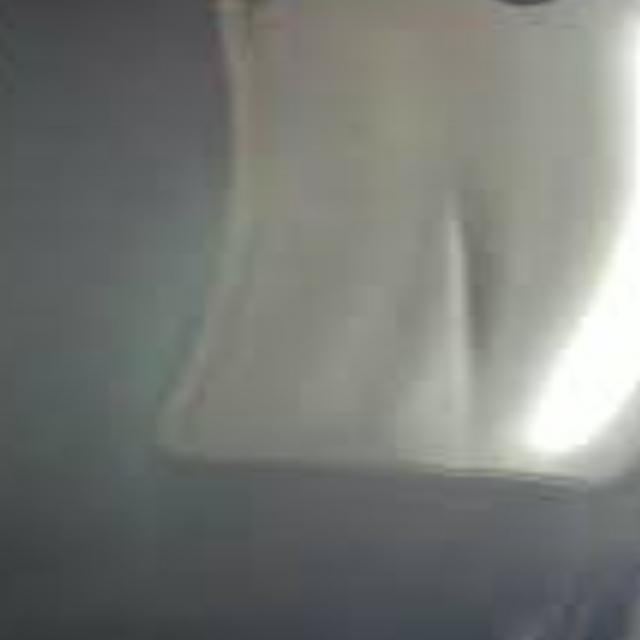dents: (388, 142, 538, 450)
